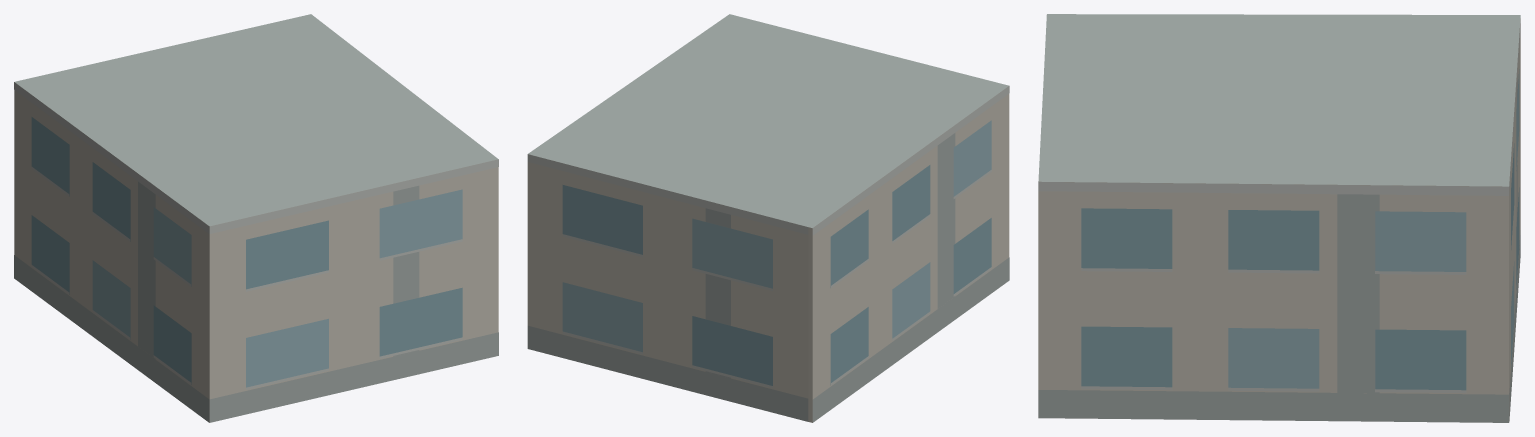
The model's file is survey-upis-32697702.glb.
The picture shows the model from 3 angles, left to right: view 1: azimuth 30°, elevation 25°; view 2: azimuth 150°, elevation 25°; view 3: azimuth 270°, elevation 25°; orthographic projection. The views are drawn at different scales.
Visible parts, largest first — view 1: survey-upis-32697702.tmp; view 2: survey-upis-32697702.tmp; view 3: survey-upis-32697702.tmp.
Part boxes in pixels (left/top/right/bottom): survey-upis-32697702.tmp: left=14, top=14, right=498, bottom=422; survey-upis-32697702.tmp: left=527, top=14, right=1009, bottom=422; survey-upis-32697702.tmp: left=1038, top=14, right=1520, bottom=422.
Bounding box in the file's own units: 9.56 × 6.1 × 11.29.
